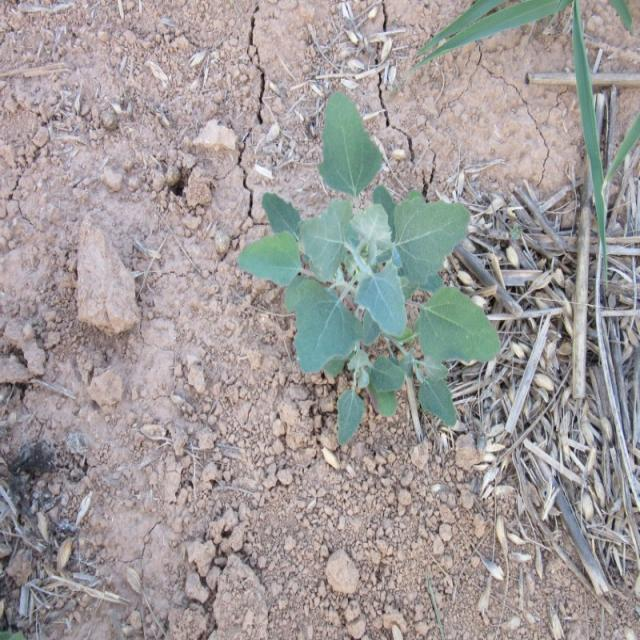ca: (238, 91, 505, 447)
